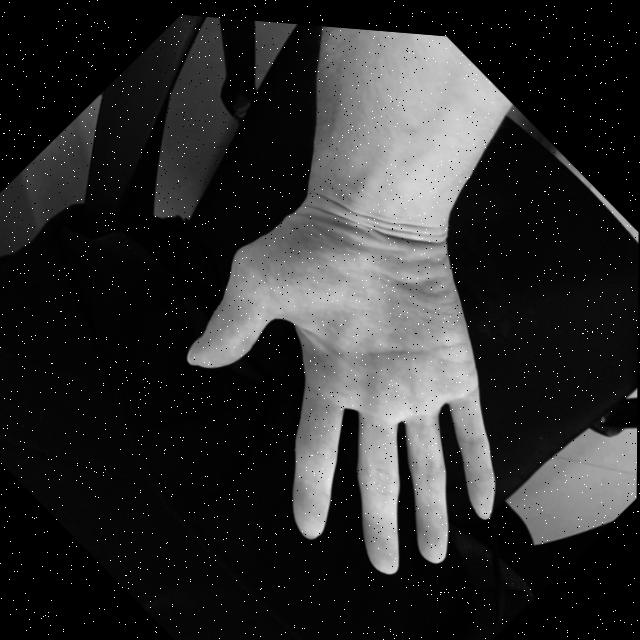hand: (117, 80, 640, 634)
